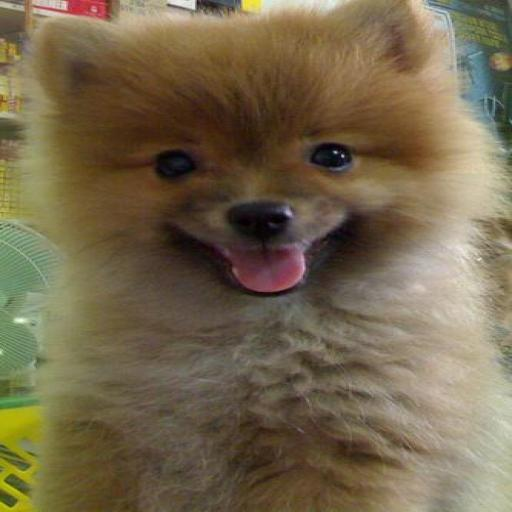dog_face: (24, 7, 450, 290)
